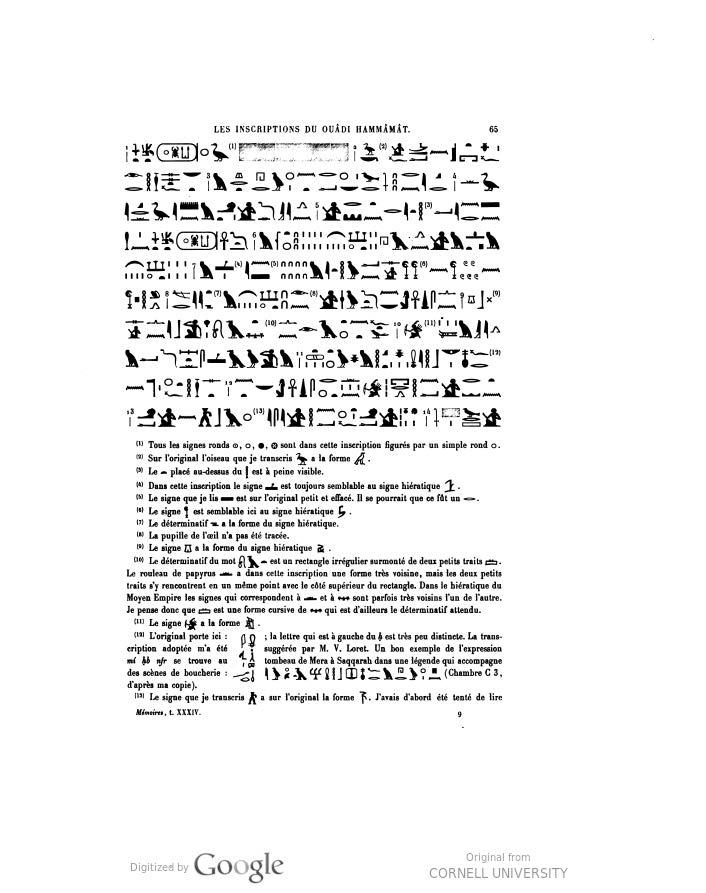circle: (170, 210, 230, 264), (152, 137, 207, 166)
